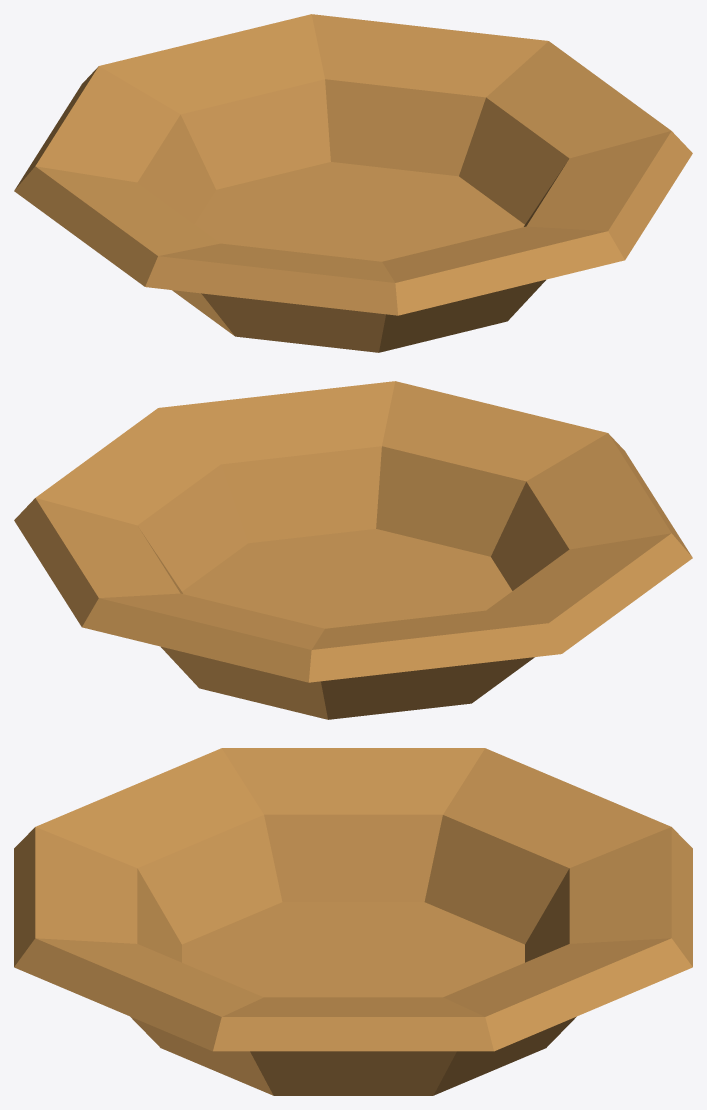
Rendered from SM_Prop_Gold_Plate_02.glb.
3 views of the same model, one above another, from view 1: azimuth 30°, elevation 25°; view 2: azimuth 150°, elevation 25°; view 3: azimuth 270°, elevation 25° (orthographic). The views are drawn at different scales.
Parts seen in each view (by area): view 1: SM_Prop_Gold_Plate_02; view 2: SM_Prop_Gold_Plate_02; view 3: SM_Prop_Gold_Plate_02.
Boxes of the visible parts, <box> form: SM_Prop_Gold_Plate_02: <box>14,14,692,352</box>; SM_Prop_Gold_Plate_02: <box>14,381,692,719</box>; SM_Prop_Gold_Plate_02: <box>14,748,692,1095</box>.
Size of the model in its own units: 0.5254 by 0.1126 by 0.5254.
Materials: 1 (1 with a texture image).
